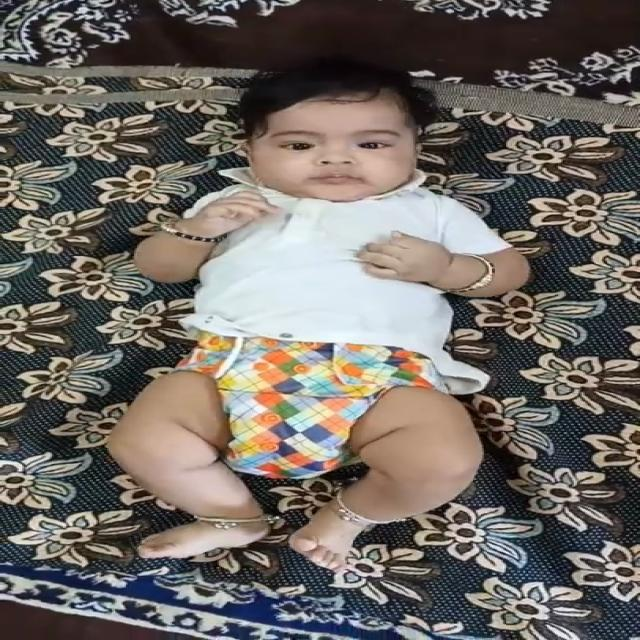baby: (110, 52, 542, 577)
